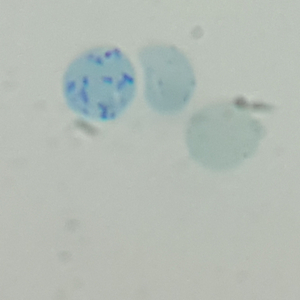aggregate reticulocyte: (60, 42, 139, 122)
punctate reticulocyte: (183, 102, 266, 171), (135, 43, 198, 115)
